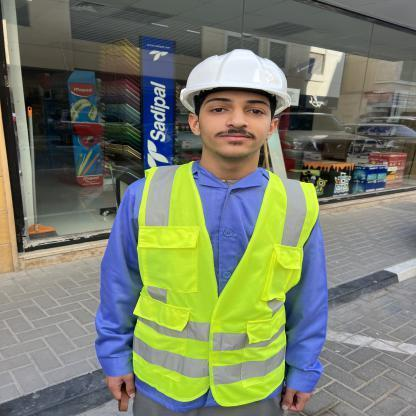helmet: (181, 51, 290, 156)
vest: (134, 162, 311, 398)
